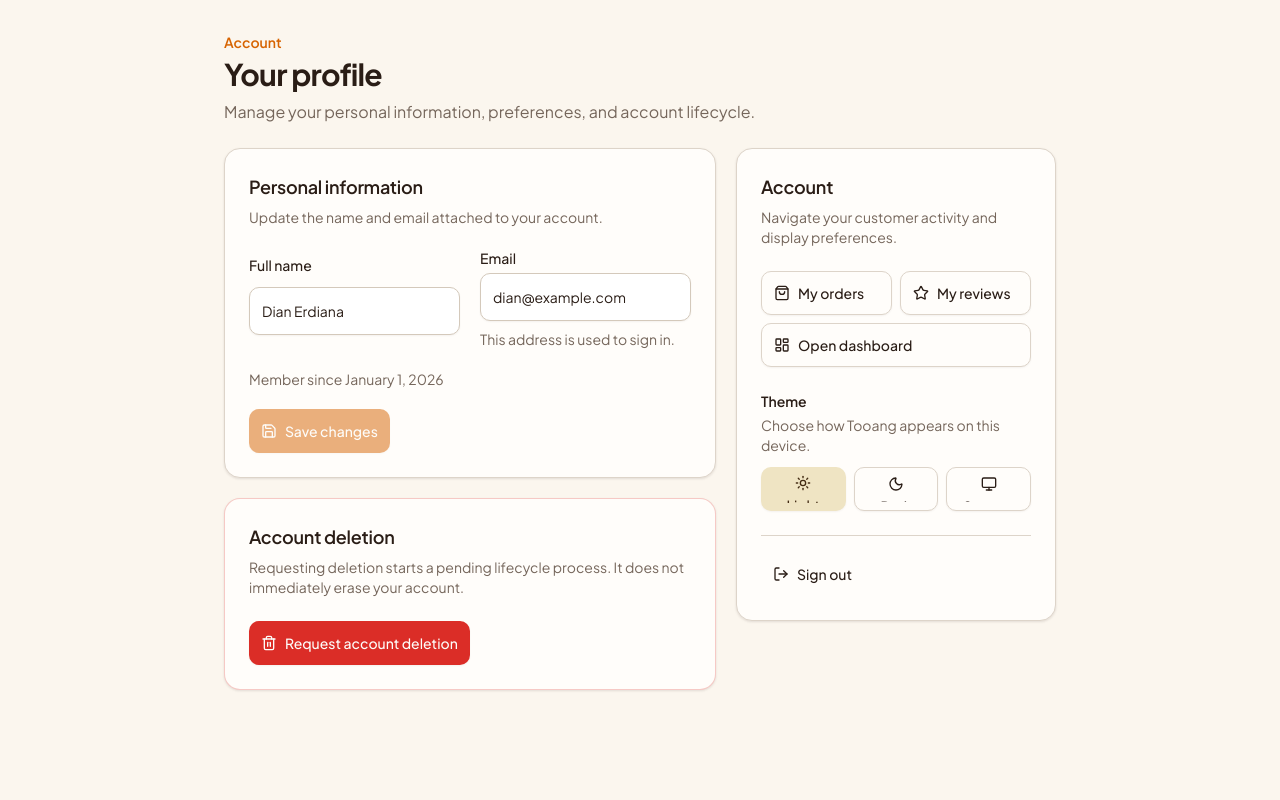
customer profile page › keeps deletion confirmation open and explains lifecycle conflicts safely
Click the button "Request account deletion".
click(359, 643)  # box [249,621,470,665]
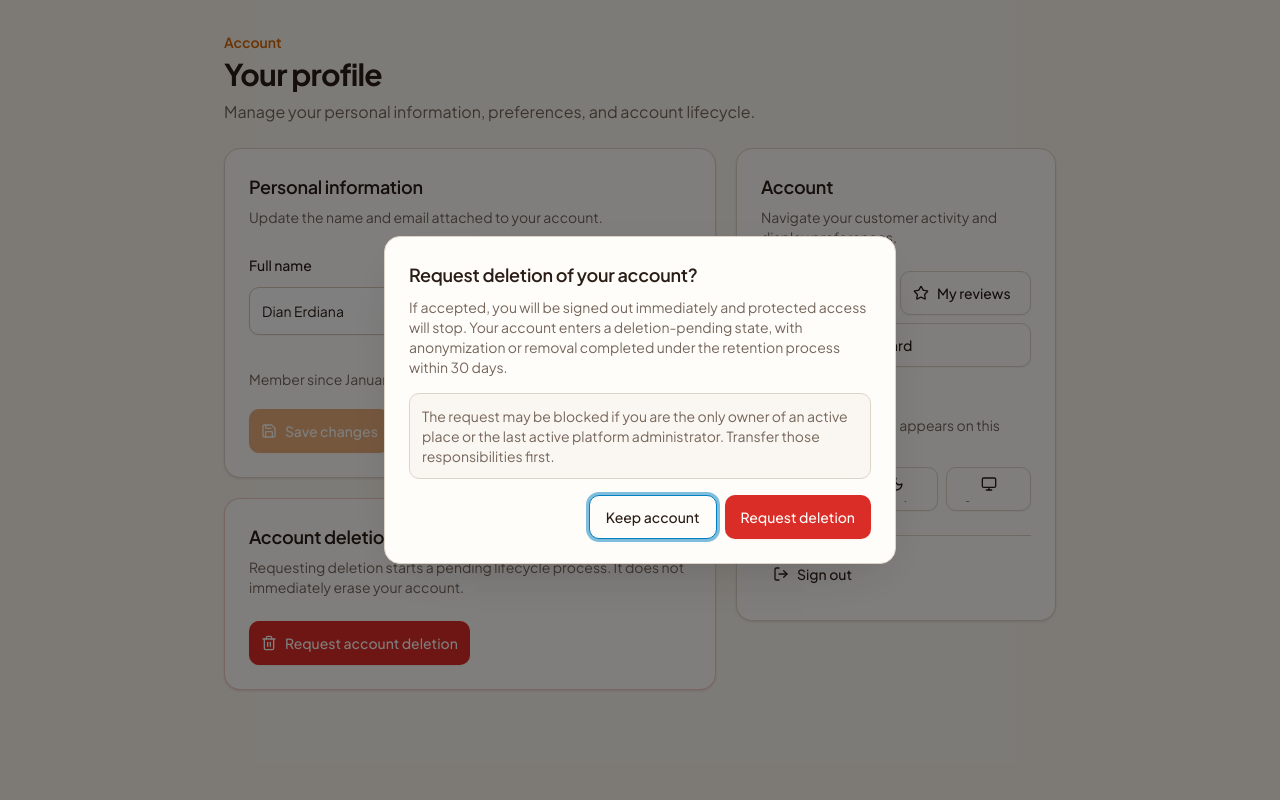
Click the button "Request deletion".
click(798, 517)  # box [724,495,871,539]
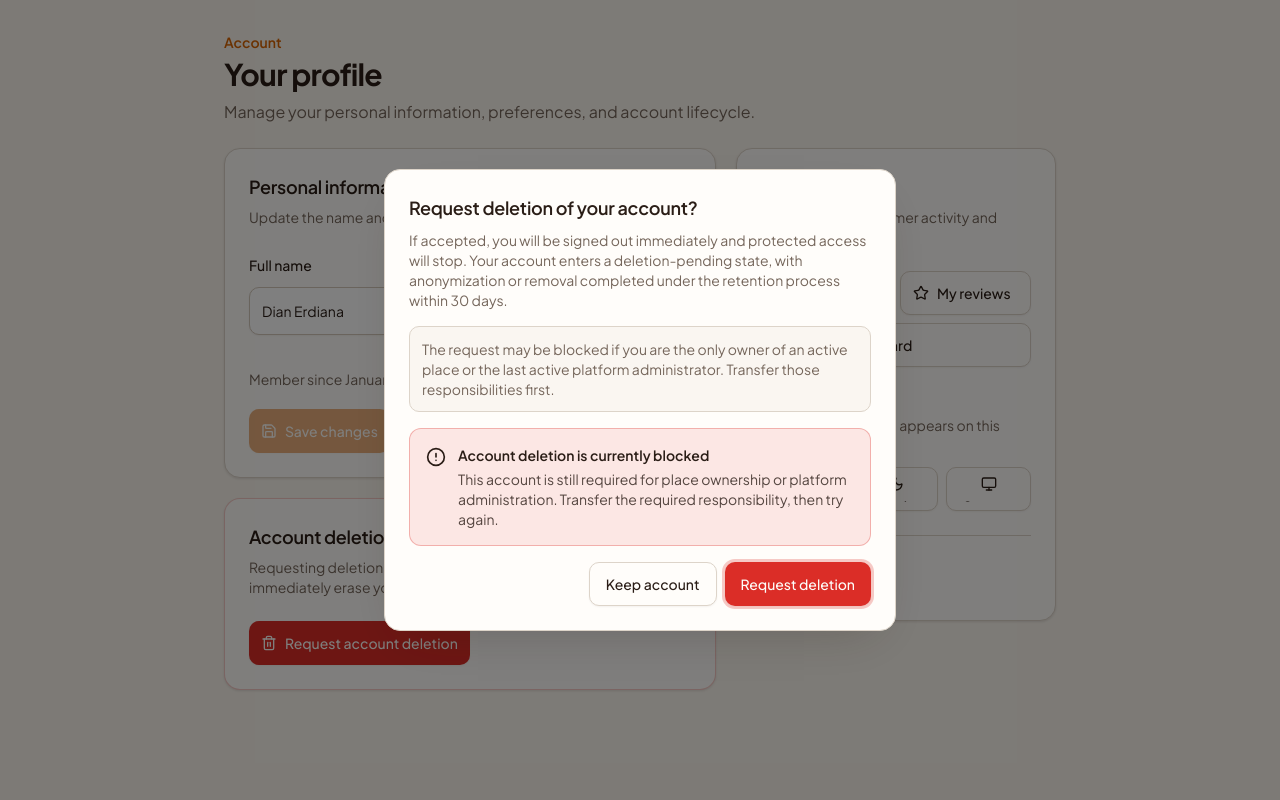
Check: the text "Account deletion is currently blocked" is shown, box [458,446,709,464]
